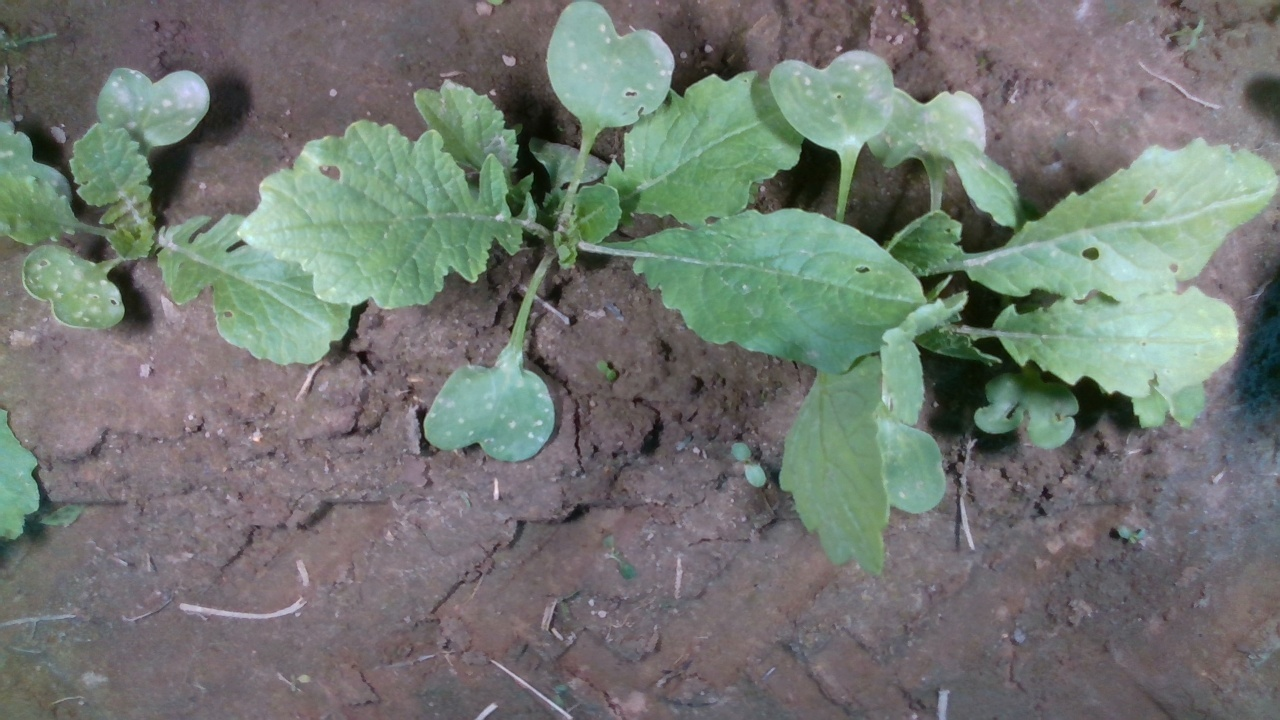weed: (729, 441, 768, 489), (594, 359, 618, 383)
